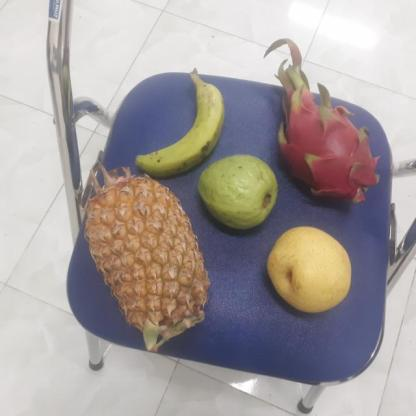banana: (131, 73, 222, 177)
guava: (262, 228, 352, 315), (196, 155, 278, 228)
pineapple: (76, 172, 210, 346)
pitaya: (274, 91, 378, 207)
